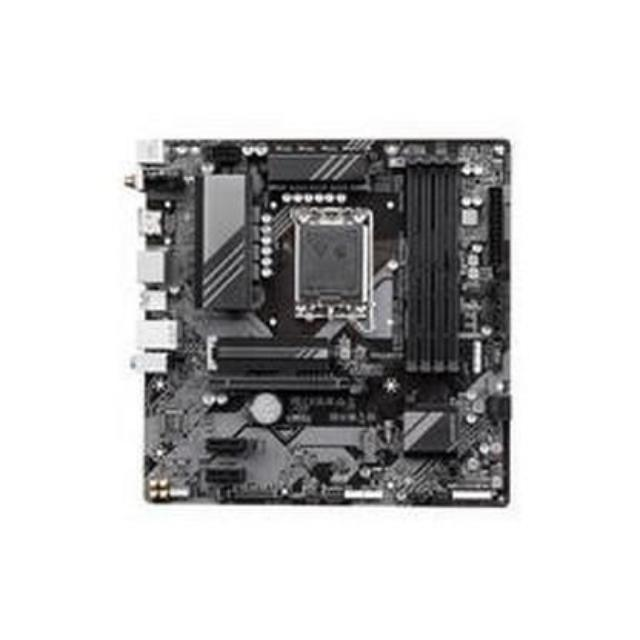Mainboard: (125, 133, 523, 524)
